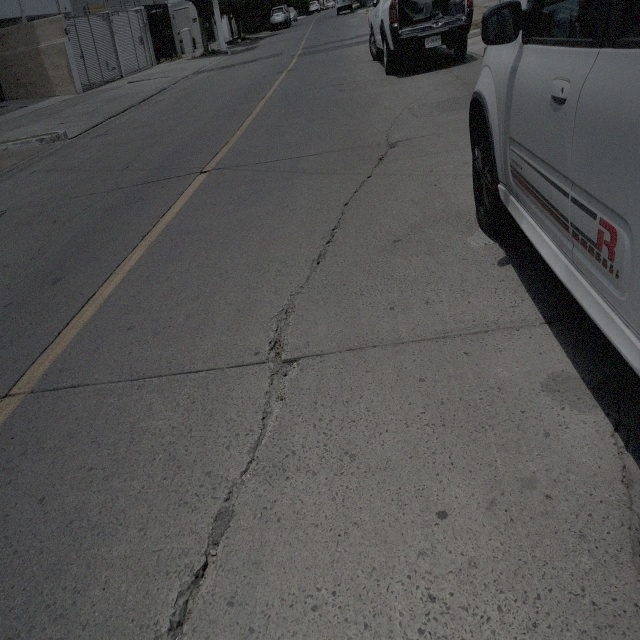pothole: (175, 526, 219, 627), (263, 302, 296, 426)
